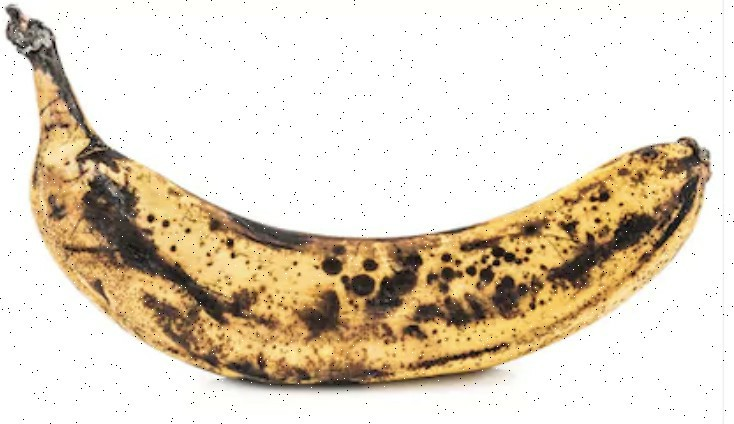rotten_banana: (16, 21, 707, 383)
